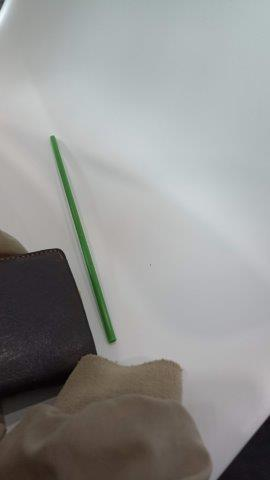sedotan: (51, 137, 114, 342)
